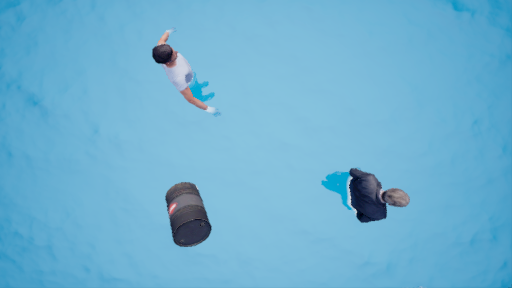person: (149, 29, 225, 118), (319, 161, 412, 228)
